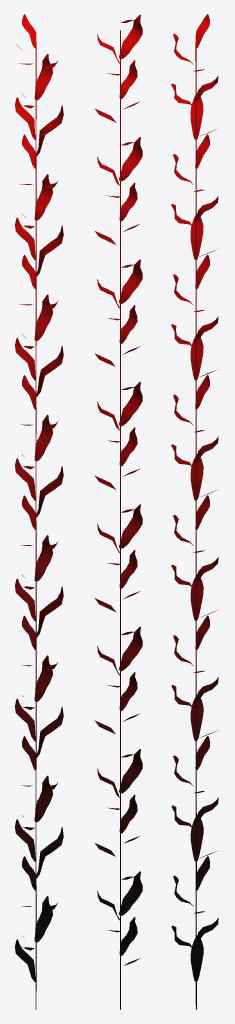
The picture shows the model from 3 angles, left to right: view 1: azimuth 30°, elevation 25°; view 2: azimuth 210°, elevation 25°; view 3: azimuth 330°, elevation 25°; orthographic projection.
Parts seen in each view (by area): view 1: KELP_HP_003; view 2: KELP_HP_003; view 3: KELP_HP_003.
Part boxes in pixels (<box>): KELP_HP_003: <box>15,14,63,1009</box>; KELP_HP_003: <box>94,14,142,1009</box>; KELP_HP_003: <box>171,14,218,1009</box>.
Size of the model in its own units: 0.6306 by 12.96 by 0.5059.
